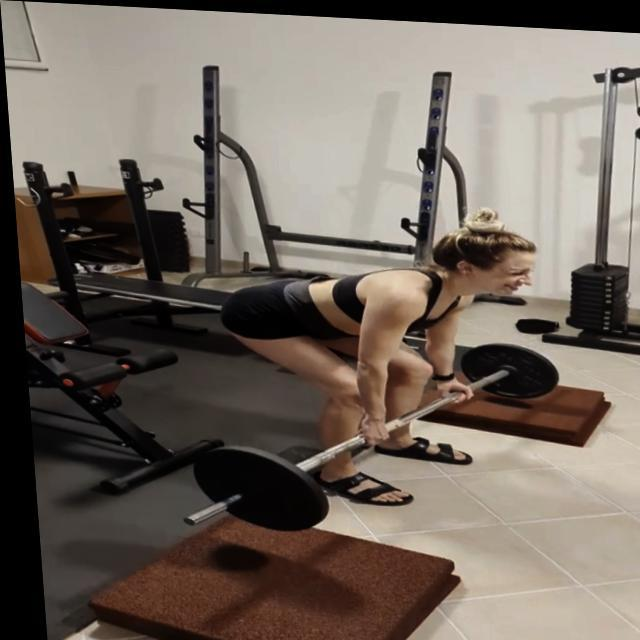barbell: (165, 437, 326, 536)
